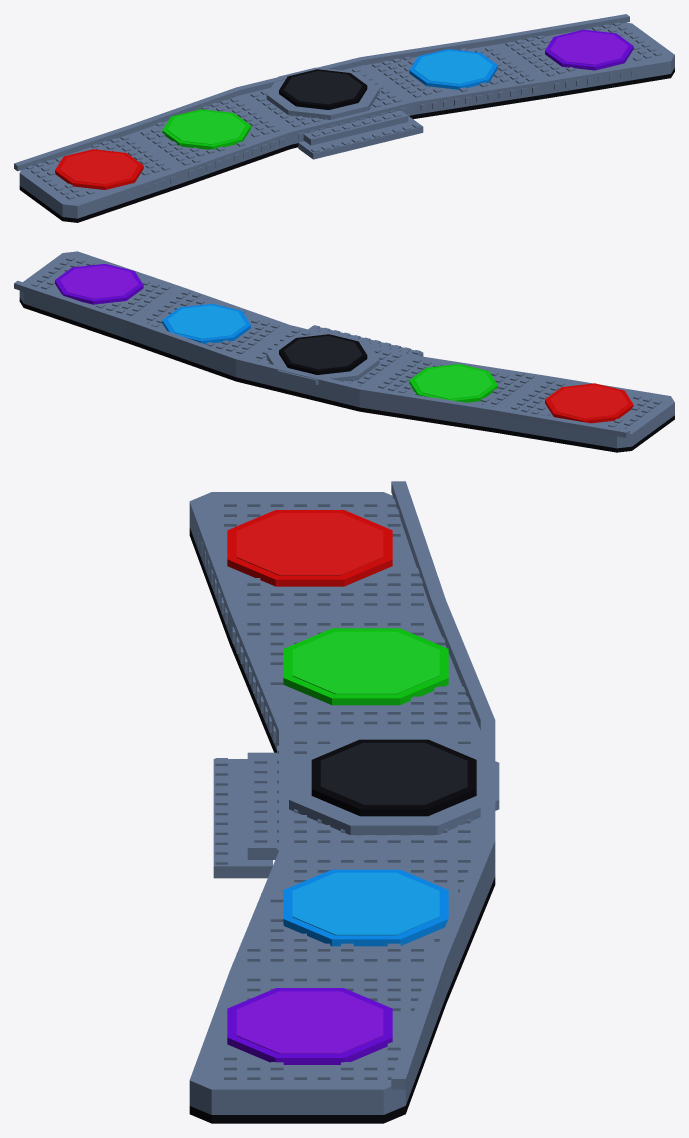
The model's file is stand-only.glb.
3 views of the same model, one above another, from view 1: azimuth 30°, elevation 25°; view 2: azimuth 150°, elevation 25°; view 3: azimuth 270°, elevation 25° (orthographic). The views are drawn at different scales.
Parts seen in each view (by area): view 1: Common_Bay.001, Rainbow_Bay.001, Rare_Bay.001, Uncommon_Bay.001, Volcanic_Bay.001, Volcanic_SeatInset.001, Uncommon_SeatInset.001, Common_SeatInset.001, Rainbow_SeatInset.001, Rare_SeatInset.001, Rare_Studs.001, Uncommon_Studs.001 (+21 smaller); view 2: Common_Bay.001, Uncommon_Bay.001, Rare_Bay.001, Rainbow_Bay.001, Volcanic_Bay.001, Common_SeatInset.001, Rare_SeatInset.001, Volcanic_SeatInset.001, Uncommon_SeatInset.001, Rainbow_SeatInset.001, Volcanic_RaisedBay.001, Uncommon_RearRim.001 (+20 smaller); view 3: Rainbow_Bay.001, Rare_Bay.001, Uncommon_Bay.001, Common_Bay.001, Rare_SeatInset.001, Volcanic_SeatInset.001, Uncommon_SeatInset.001, Rainbow_SeatInset.001, Common_SeatInset.001, Volcanic_RaisedBay.001, Volcanic_Bay.001, Uncommon_Studs.001 (+18 smaller).
Part boxes in pixels (x1,y1,x2,y2): Common_Bay.001: (19,134,179,218); Rainbow_Bay.001: (498,22,674,93); Rare_Bay.001: (364,44,548,114); Uncommon_Bay.001: (130,95,290,183); Volcanic_Bay.001: (240,65,413,144); Volcanic_SeatInset.001: (284,71,362,104); Uncommon_SeatInset.001: (167,111,245,144); Common_SeatInset.001: (60,151,138,184); Rainbow_SeatInset.001: (549,31,628,64); Rare_SeatInset.001: (414,50,492,84); Rare_Studs.001: (372,47,538,110); Uncommon_Studs.001: (140,97,285,177); Common_Bay.001: (494,376,674,448); Uncommon_Bay.001: (359,355,547,428); Rare_Bay.001: (126,286,289,376); Rainbow_Bay.001: (19,251,179,338); Volcanic_Bay.001: (236,325,413,407); Common_SeatInset.001: (549,385,628,418); Rare_SeatInset.001: (167,305,245,338); Volcanic_SeatInset.001: (283,336,362,369); Uncommon_SeatInset.001: (414,365,492,399); Rainbow_SeatInset.001: (60,265,138,298); Volcanic_RaisedBay.001: (266,332,379,384); Uncommon_RearRim.001: (359,387,497,415); Rainbow_Bay.001: (189,970,445,1114); Rare_Bay.001: (230,851,495,995); Uncommon_Bay.001: (230,611,480,750); Common_Bay.001: (189,492,431,635); Rare_SeatInset.001: (292,872,439,935); Volcanic_SeatInset.001: (320,742,467,805); Uncommon_SeatInset.001: (292,631,439,694); Rainbow_SeatInset.001: (236,991,383,1053); Common_SeatInset.001: (236,513,383,575); Volcanic_RaisedBay.001: (289,736,499,835); Volcanic_Bay.001: (279,730,480,850); Uncommon_Studs.001: (232,617,470,742).
Bounding box in the file's own units: 24.2 × 0.965 × 5.3.
11 materials, 11 textured.
